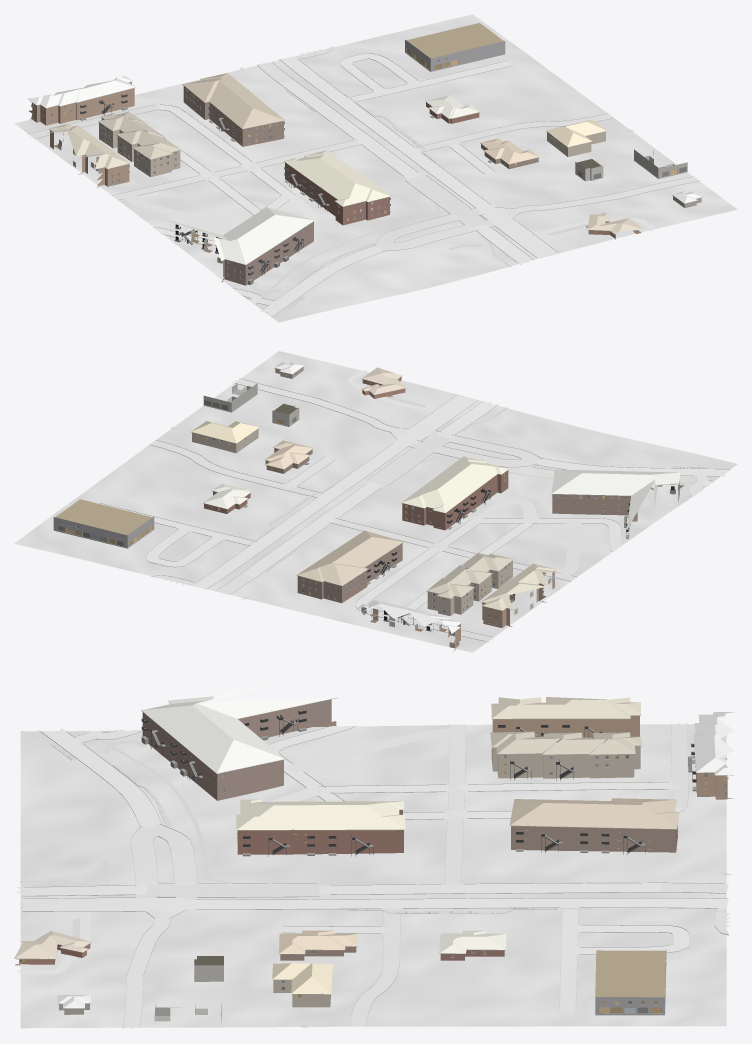
3 views of the same model, one above another, from view 1: azimuth 30°, elevation 25°; view 2: azimuth 150°, elevation 25°; view 3: azimuth 270°, elevation 25° (orthographic). The views are drawn at different scales.
Parts seen in each view (by area): view 1: ground, roof, asphalt, concrete, wall, curb, detail, wall_com, roof_flat, walk, mark_w, rail (+3 smaller); view 2: ground, roof, concrete, asphalt, wall, curb, wall_com, roof_flat, detail, walk, room, glass (+3 smaller); view 3: ground, roof, wall, asphalt, concrete, curb, detail, roof_flat, walk, wall_com, mark_w, rail (+1 smaller).
Part boxes in pixels (left/top/right/bottom): ground: left=14, top=14, right=737, bottom=322; roof: left=27, top=73, right=702, bottom=264; asphalt: left=257, top=56, right=557, bottom=315; concrete: left=27, top=46, right=700, bottom=304; wall: left=29, top=82, right=701, bottom=285; curb: left=29, top=46, right=699, bottom=318; detail: left=30, top=48, right=702, bottom=284; wall_com: left=405, top=39, right=687, bottom=181; roof_flat: left=406, top=23, right=601, bottom=168; walk: left=193, top=67, right=633, bottom=309; mark_w: left=259, top=56, right=555, bottom=315; rail: left=80, top=94, right=390, bottom=275; ground: left=14, top=351, right=737, bottom=652; roof: left=191, top=362, right=682, bottom=633; concrete: left=98, top=370, right=712, bottom=642; asphalt: left=192, top=395, right=727, bottom=594; wall: left=192, top=367, right=679, bottom=651; curb: left=99, top=378, right=730, bottom=641; wall_com: left=53, top=383, right=299, bottom=548; roof_flat: left=55, top=403, right=297, bottom=535; detail: left=57, top=365, right=680, bottom=644; walk: left=170, top=397, right=712, bottom=599; room: left=66, top=373, right=683, bottom=647; glass: left=58, top=372, right=627, bottom=644; ground: left=20, top=724, right=726, bottom=1028; roof: left=14, top=682, right=736, bottom=1008; wall: left=15, top=699, right=733, bottom=1014; asphalt: left=16, top=728, right=728, bottom=911; concrete: left=16, top=723, right=730, bottom=1029; curb: left=21, top=724, right=728, bottom=1028; detail: left=14, top=697, right=733, bottom=1025; roof_flat: left=194, top=950, right=665, bottom=997; walk: left=19, top=730, right=732, bottom=1027; wall_com: left=194, top=949, right=666, bottom=1015; mark_w: left=23, top=732, right=726, bottom=911; rail: left=141, top=710, right=696, bottom=853.
Bounding box in the file's own units: 260 × 17.01 × 256.
